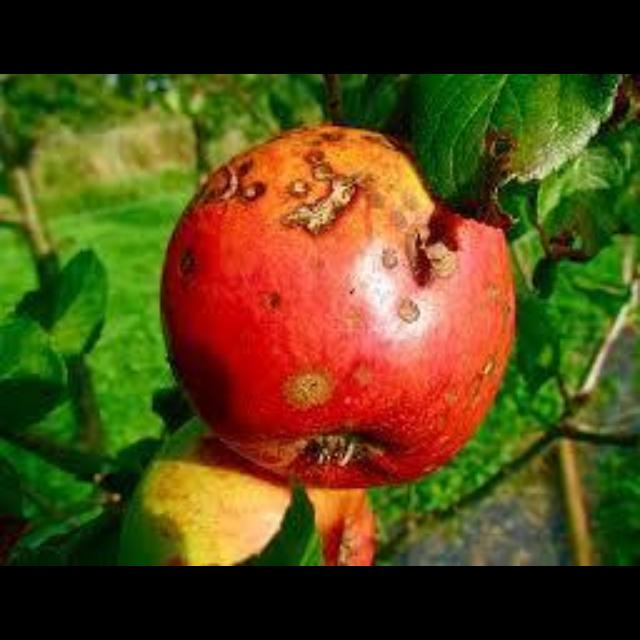apple: (162, 129, 515, 484)
pest: (288, 176, 355, 232), (410, 209, 458, 284), (190, 164, 265, 204), (292, 374, 328, 402), (180, 252, 190, 272)
